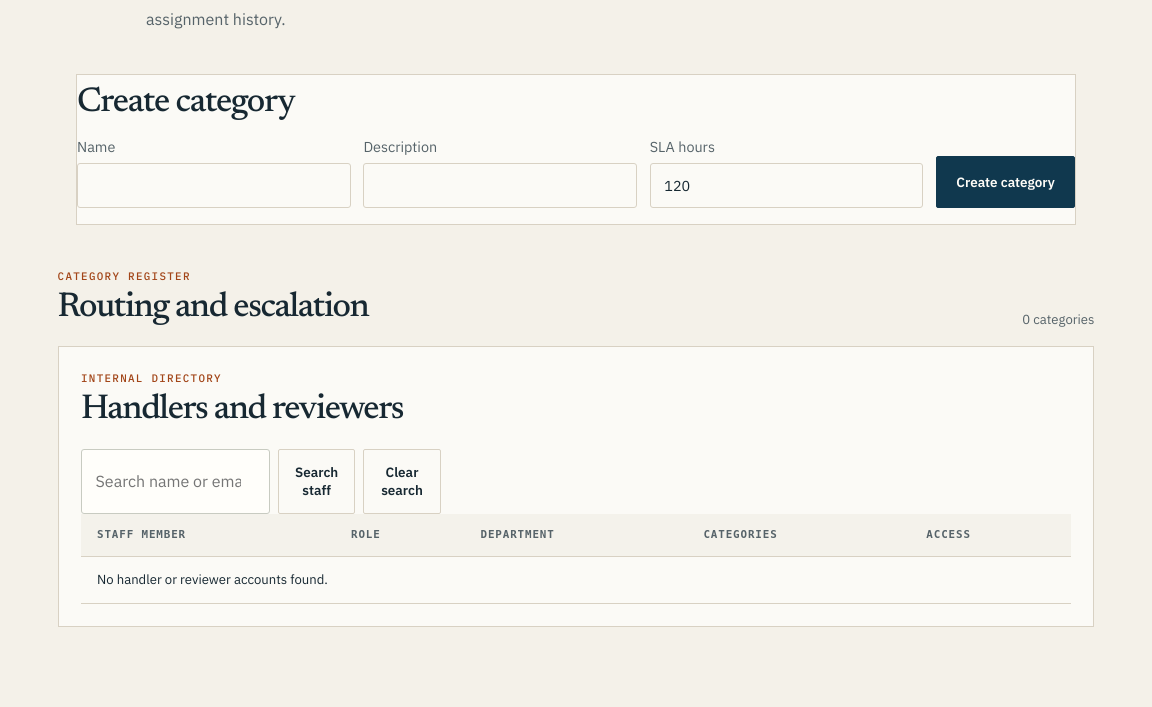
Phase 6 administration interfaces › searches the staff directory through the administrative API
The image size is (1152, 707).
(page scrolled)
Expected: the heading "Handlers and reviewers" is shown, x1=81 y1=393 x2=403 y2=427
Type "Ramesh" into the search field named "Search staff by name or email".
click(176, 482); type("Ramesh")  # box x1=81 y1=449 x2=270 y2=514
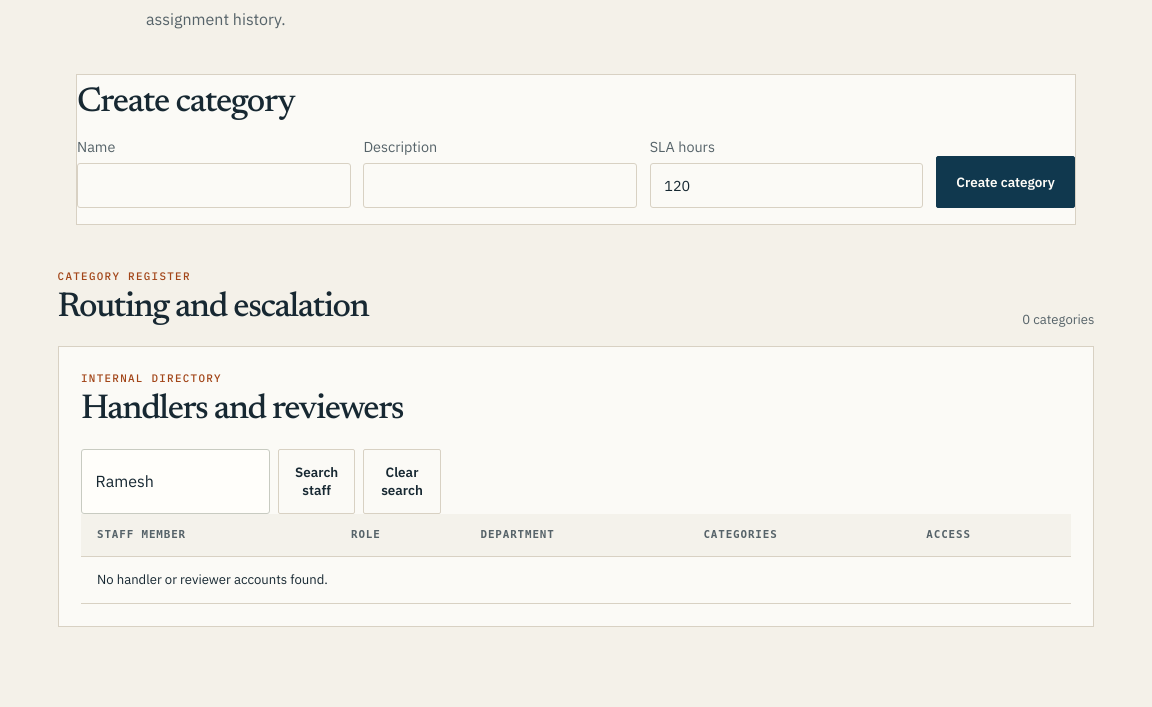
Click the button "Search staff".
click(317, 482)  # box x1=278 y1=449 x2=355 y2=514
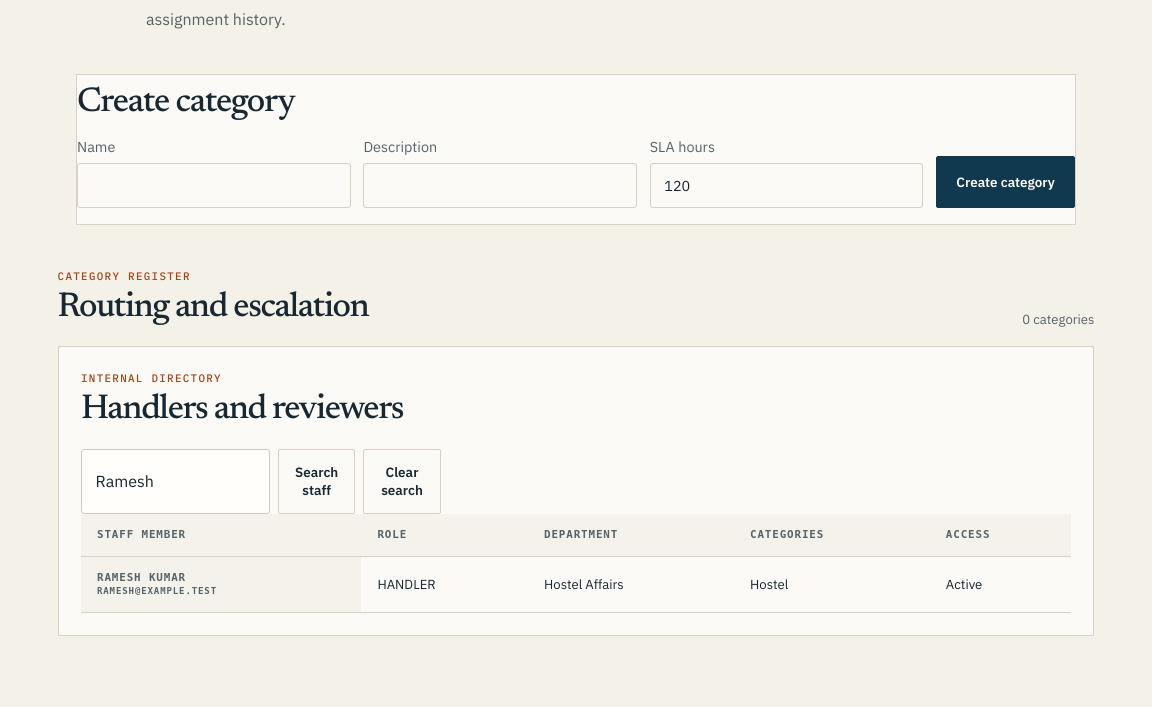
Expected: the column heading "Ramesh Kumar" is shown, x1=97 y1=571 x2=186 y2=584
